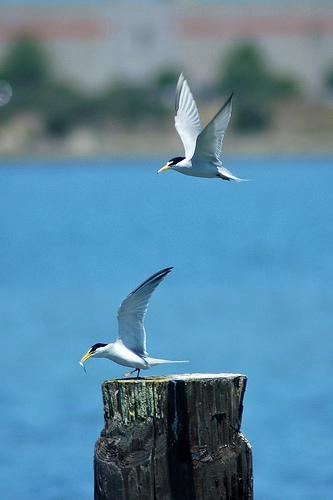bird: (143, 73, 268, 186), (73, 268, 178, 382)
